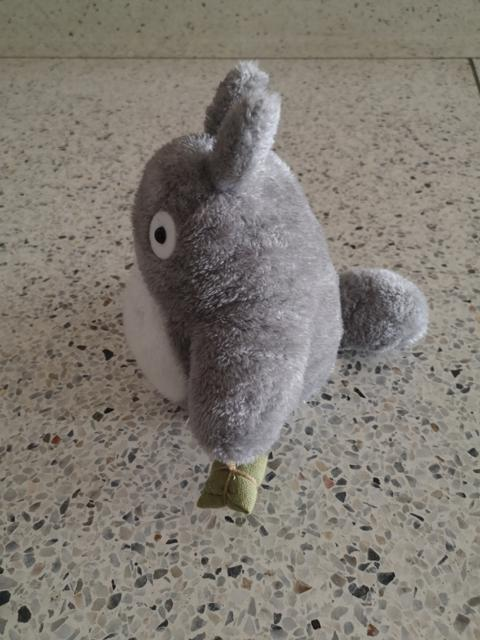totoro: (119, 58, 432, 518)
